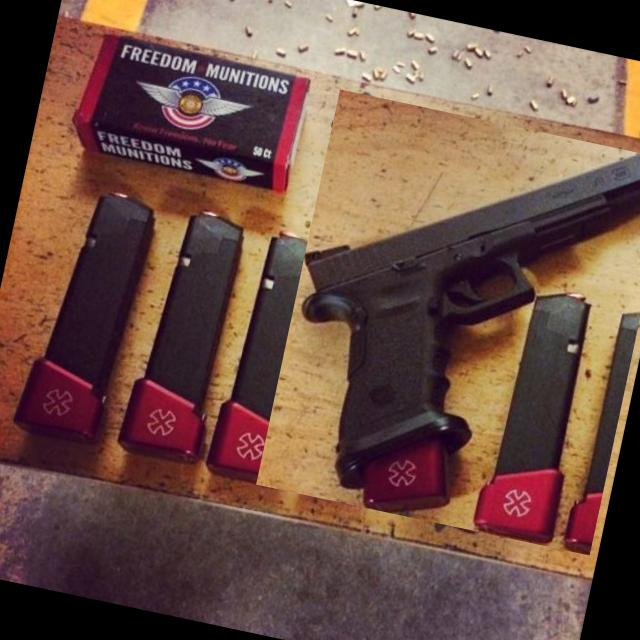Gun: (303, 153, 640, 513)
